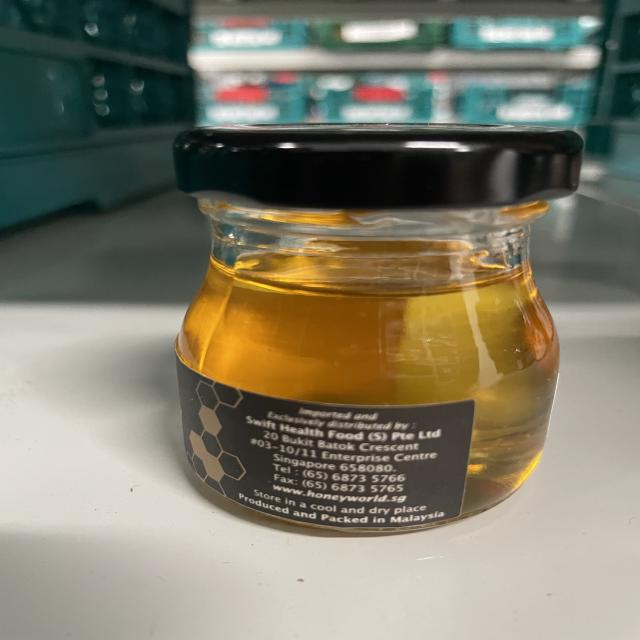object_name: (167, 126, 581, 536)
